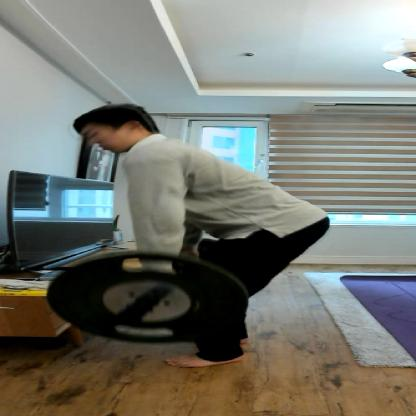Barbell: (42, 243, 255, 353)
